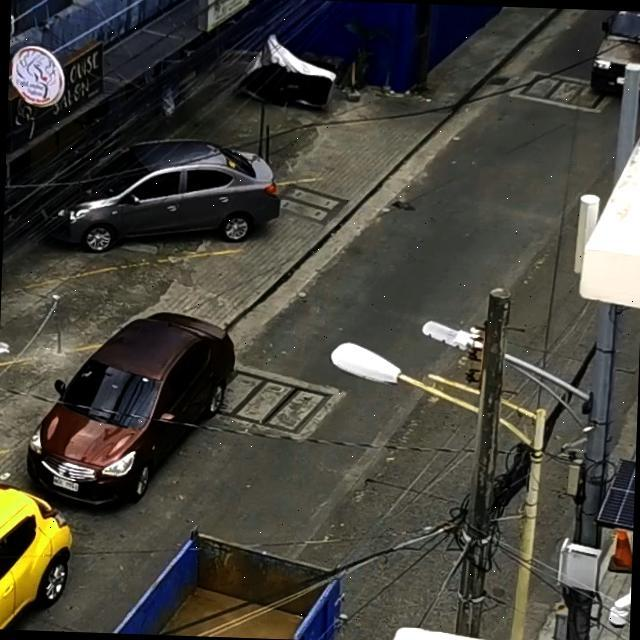Truck: (0, 475, 377, 640)
